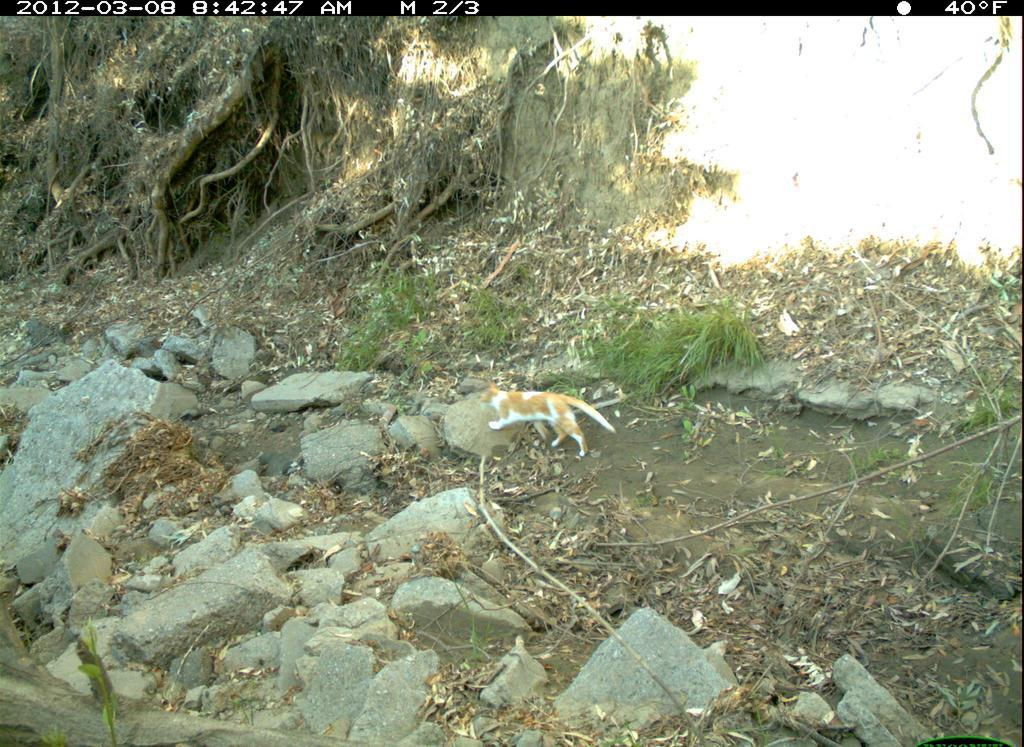cat: (474, 378, 623, 460)
